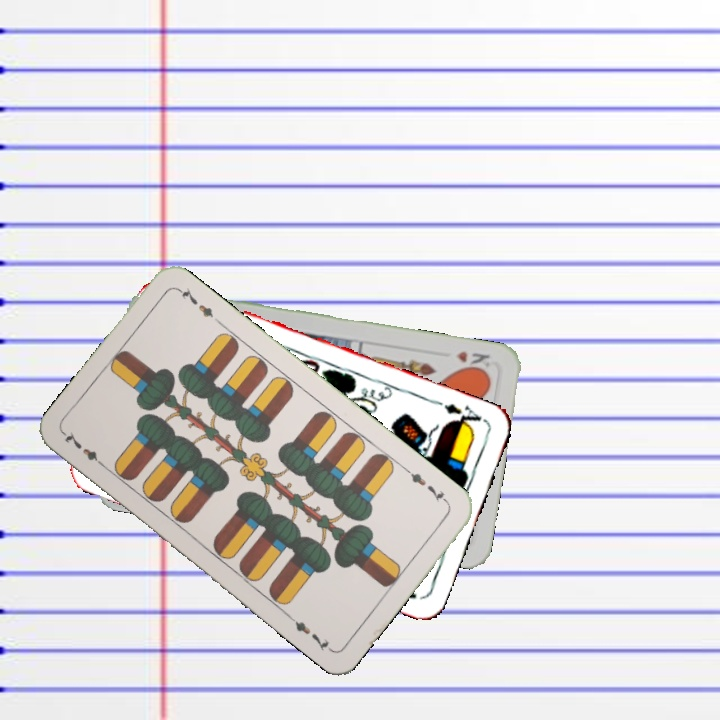E7: (60, 428, 109, 472), (402, 464, 452, 506)
EA: (440, 399, 484, 432)
HK: (452, 347, 493, 375)
